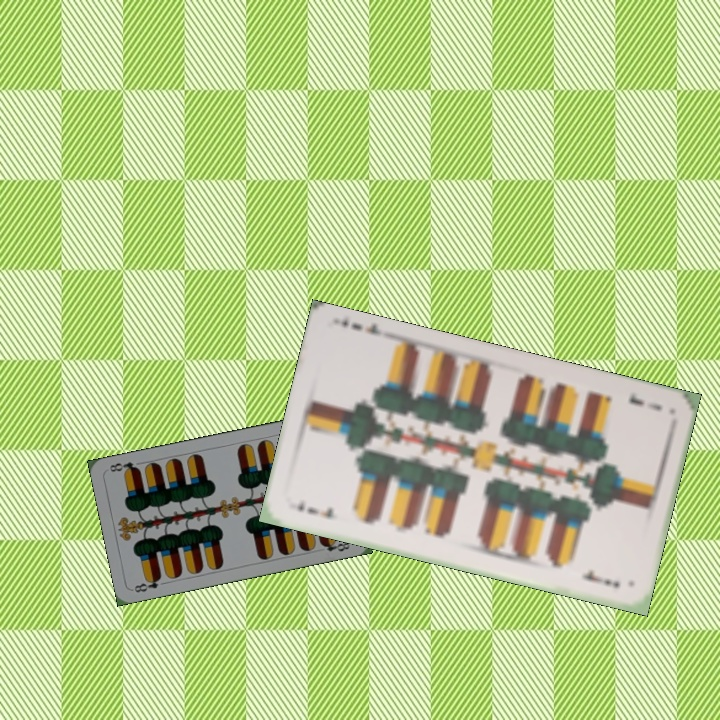E7: (292, 495, 341, 522), (625, 388, 664, 413)
E8: (130, 572, 164, 595)
